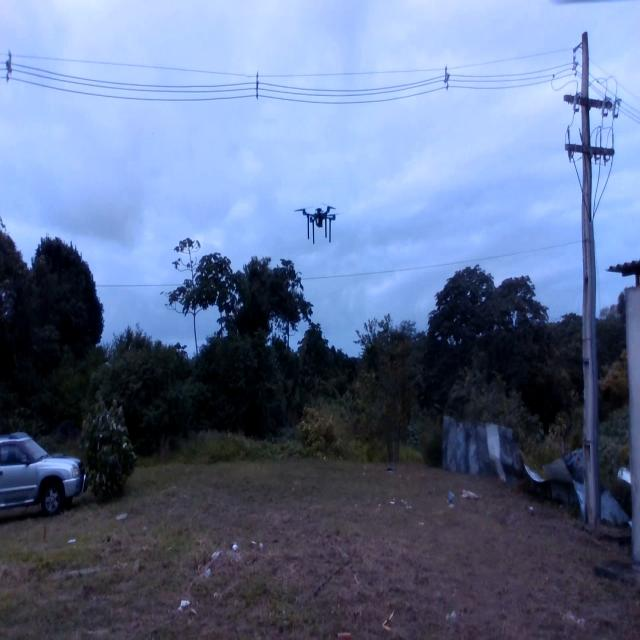-uav-: (292, 194, 340, 250)
